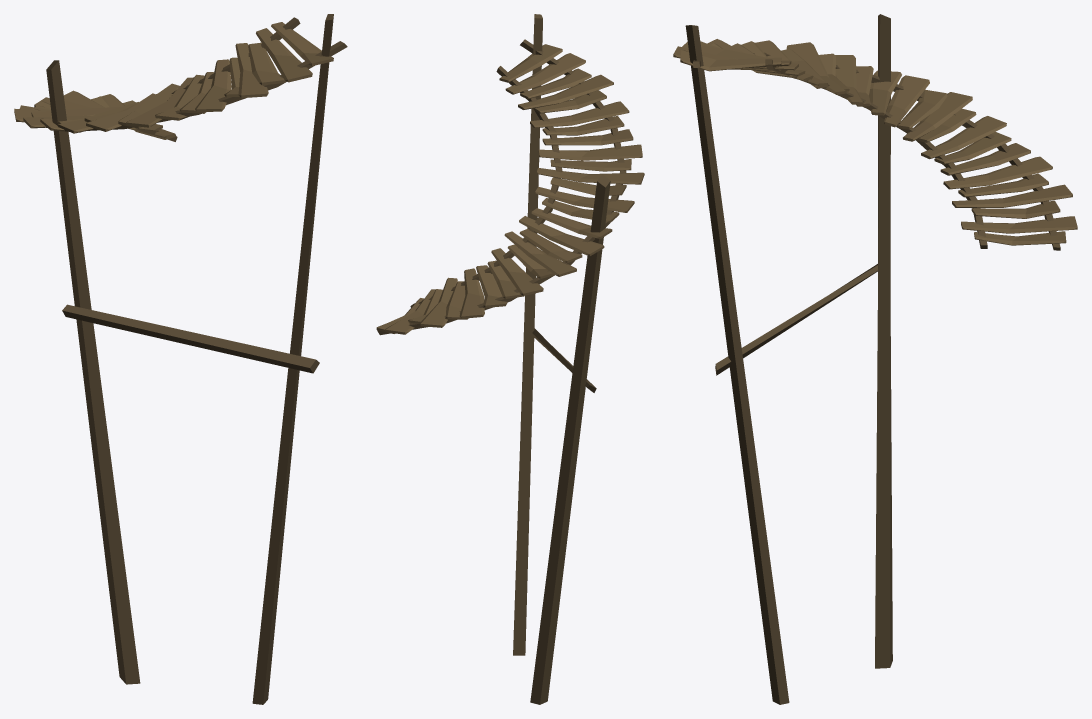
The model's file is SM_Bld_Rickety_Dock_Stairs_Curved_01.glb.
3 renders of one model, left to right at view 1: azimuth 30°, elevation 25°; view 2: azimuth 150°, elevation 25°; view 3: azimuth 270°, elevation 25°, orthographic. The views are drawn at different scales.
Visible parts, largest first — view 1: SM_Bld_Rickety_Dock_Stairs_Curved_01; view 2: SM_Bld_Rickety_Dock_Stairs_Curved_01; view 3: SM_Bld_Rickety_Dock_Stairs_Curved_01.
Boxes of the visible parts, x1,y1,x2,y2 form: SM_Bld_Rickety_Dock_Stairs_Curved_01: (14,14,347,704); SM_Bld_Rickety_Dock_Stairs_Curved_01: (376,14,644,704); SM_Bld_Rickety_Dock_Stairs_Curved_01: (673,14,1077,704).
Bounding box in the file's own units: 0.0317 × 0.1046 × 0.0556.
